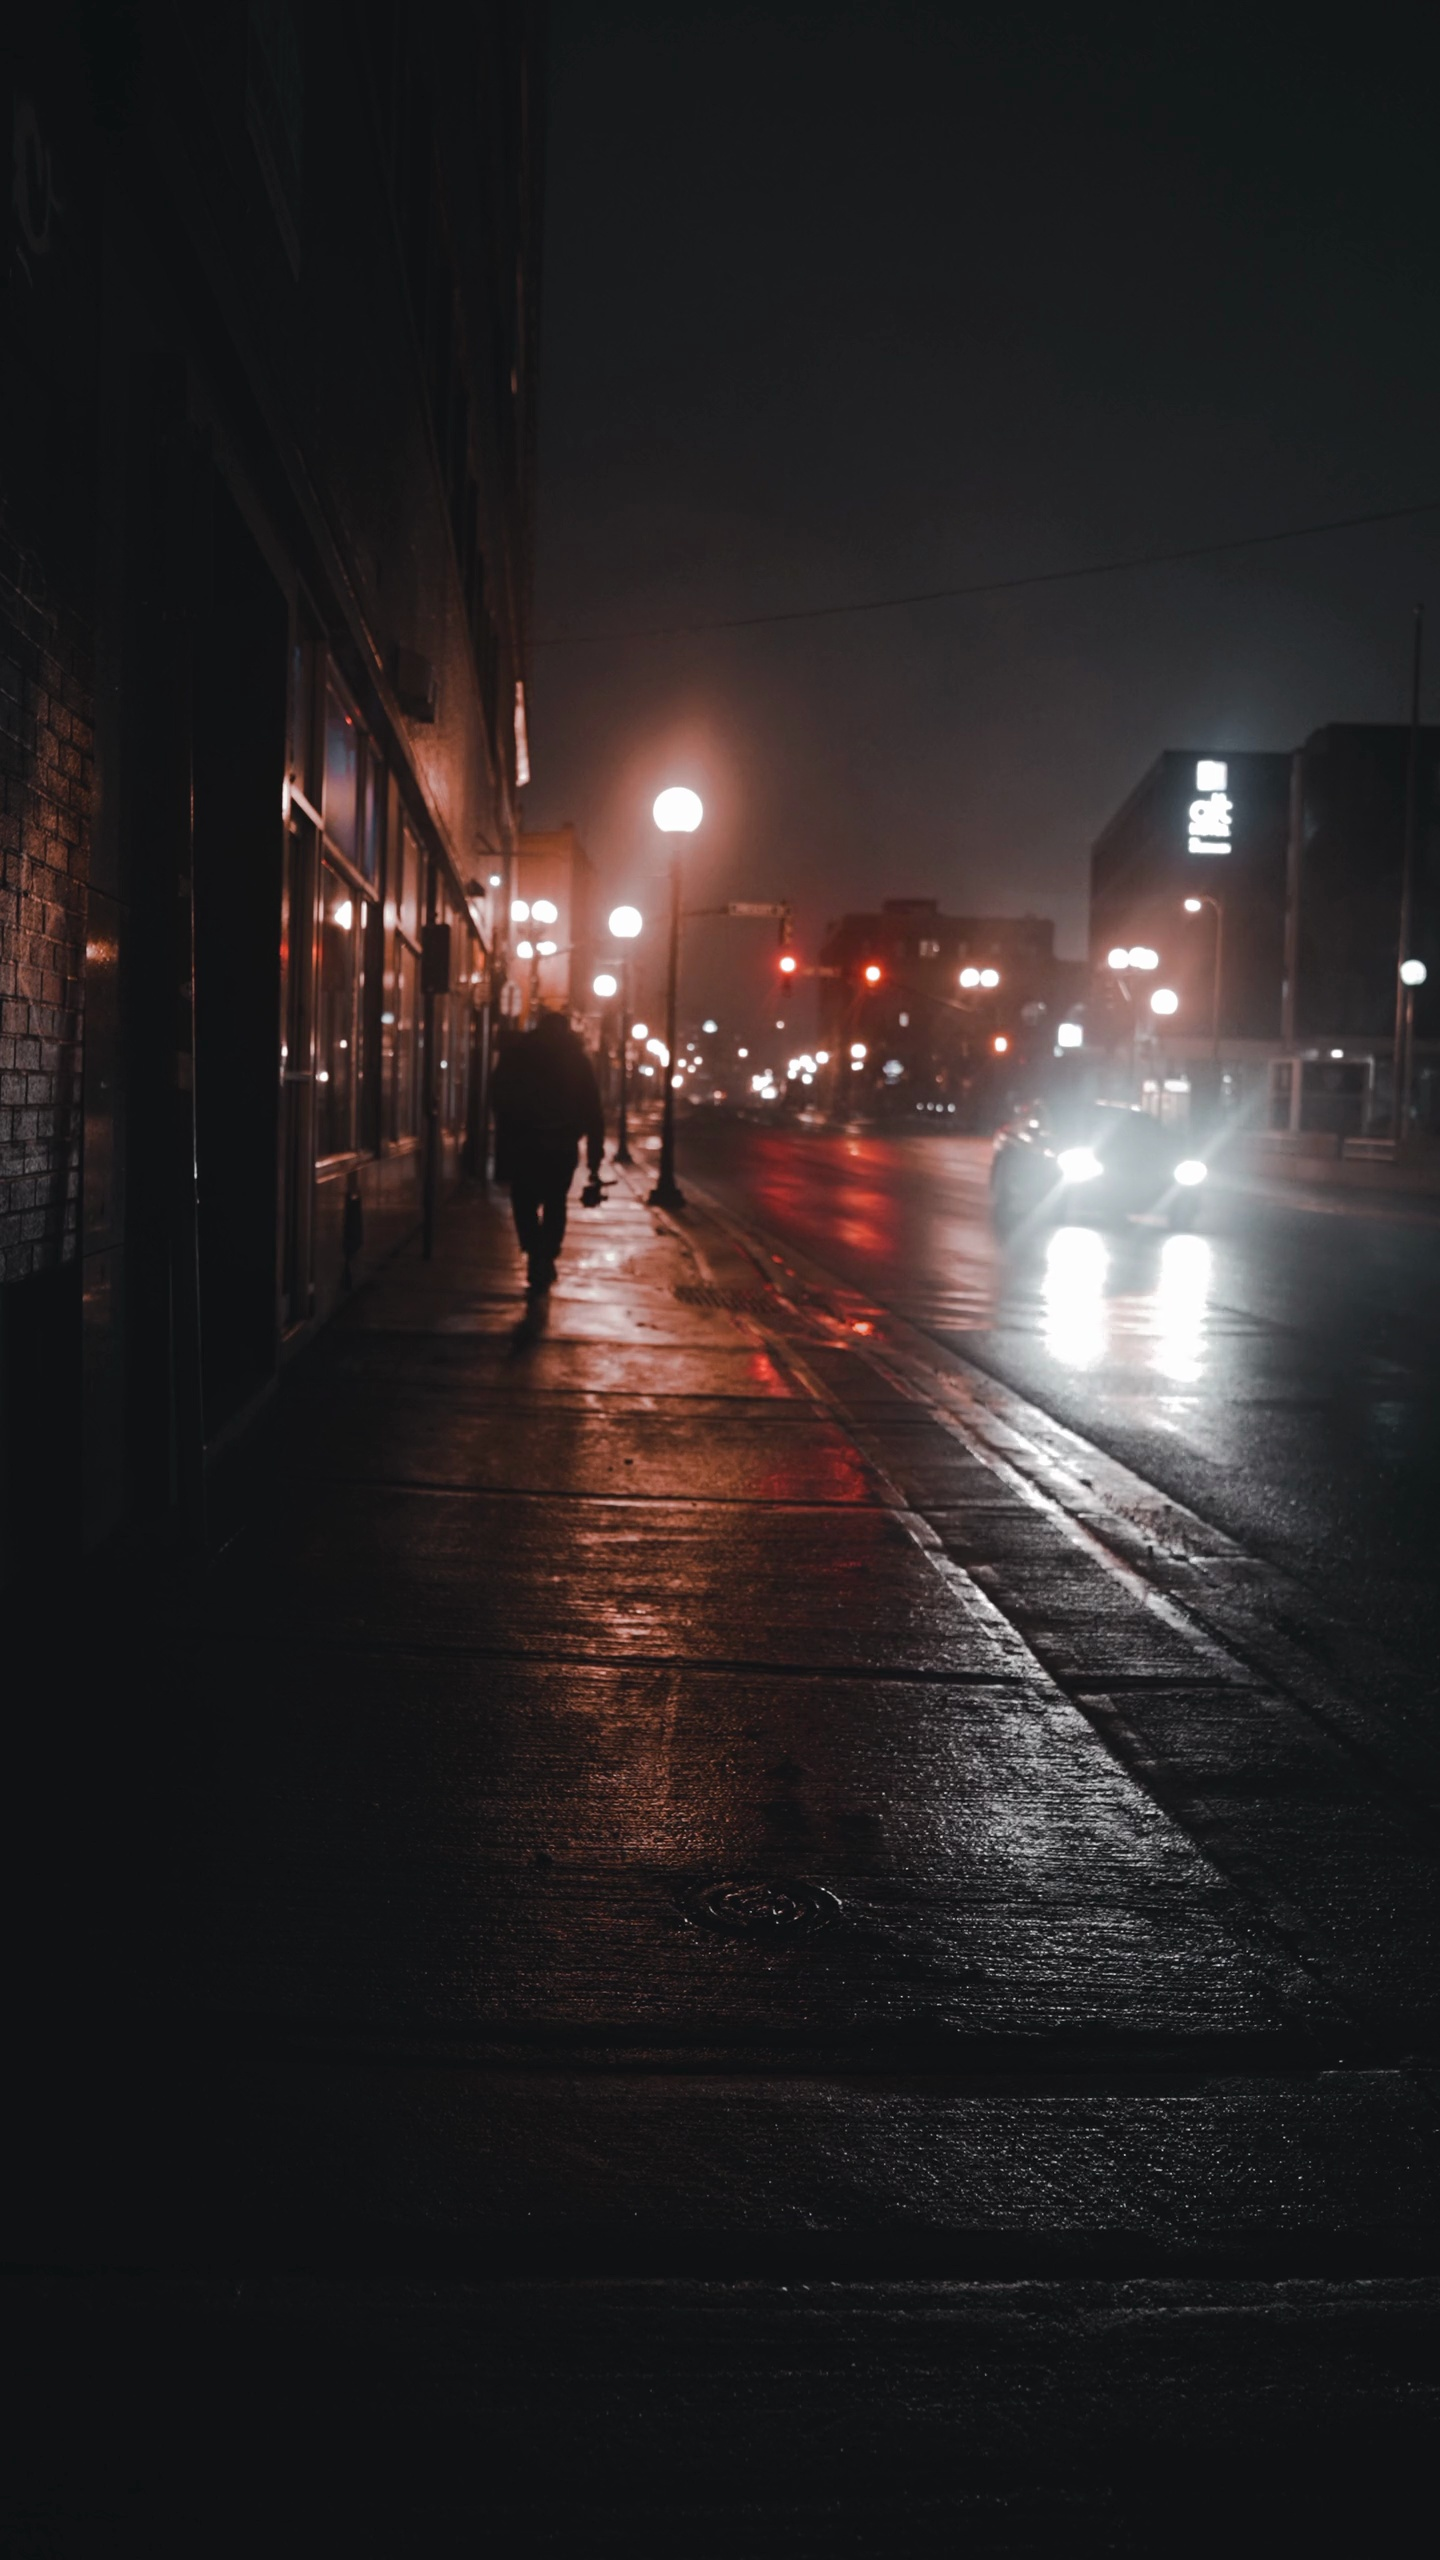person: (492, 1011, 614, 1286)
